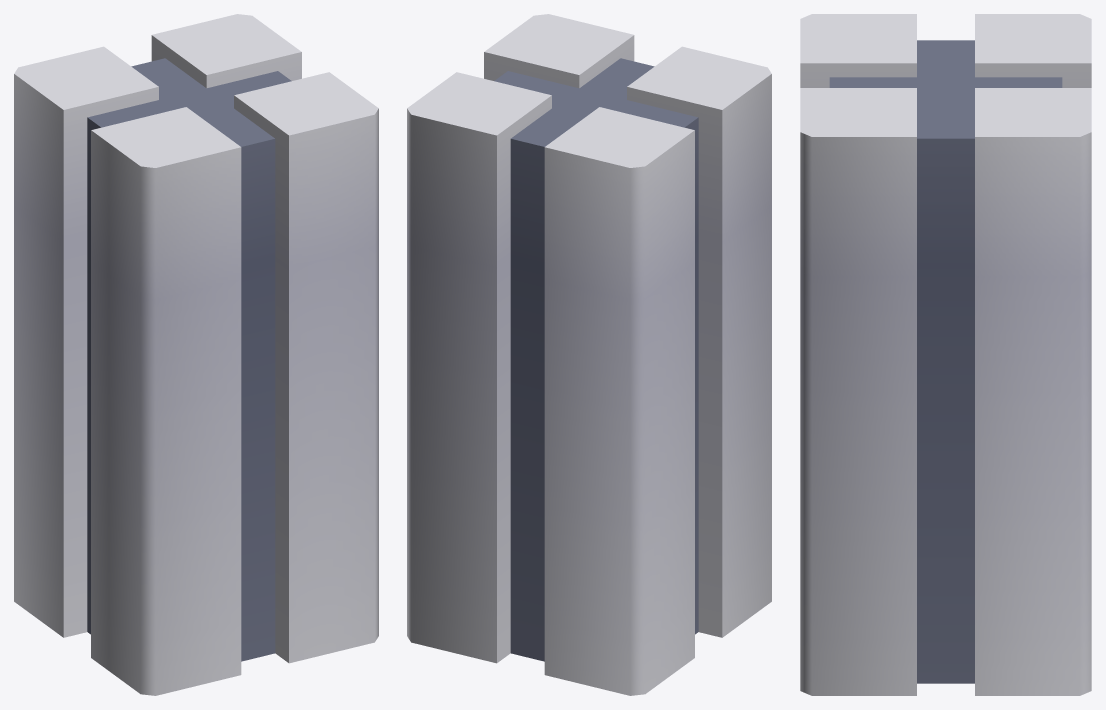
The model's file is building-skyscraper-a_far.glb.
The picture shows the model from 3 angles, left to right: view 1: azimuth 30°, elevation 25°; view 2: azimuth 150°, elevation 25°; view 3: azimuth 270°, elevation 25°; orthographic projection. The views are drawn at different scales.
Parts seen in each view (by area): view 1: low-detail-building-g; view 2: low-detail-building-g; view 3: low-detail-building-g.
Boxes of the visible parts, x1=… form: low-detail-building-g: x1=14, y1=14, x2=378, y2=695; low-detail-building-g: x1=407, y1=14, x2=771, y2=695; low-detail-building-g: x1=800, y1=14, x2=1091, y2=695.
Size of the model in its own units: 1.36 by 2.88 by 1.36.
Materials: 1 (1 with a texture image).
